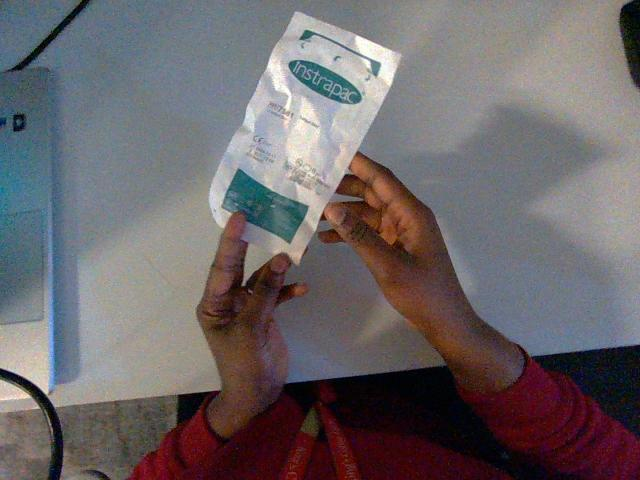gallipot: (209, 13, 400, 263)
